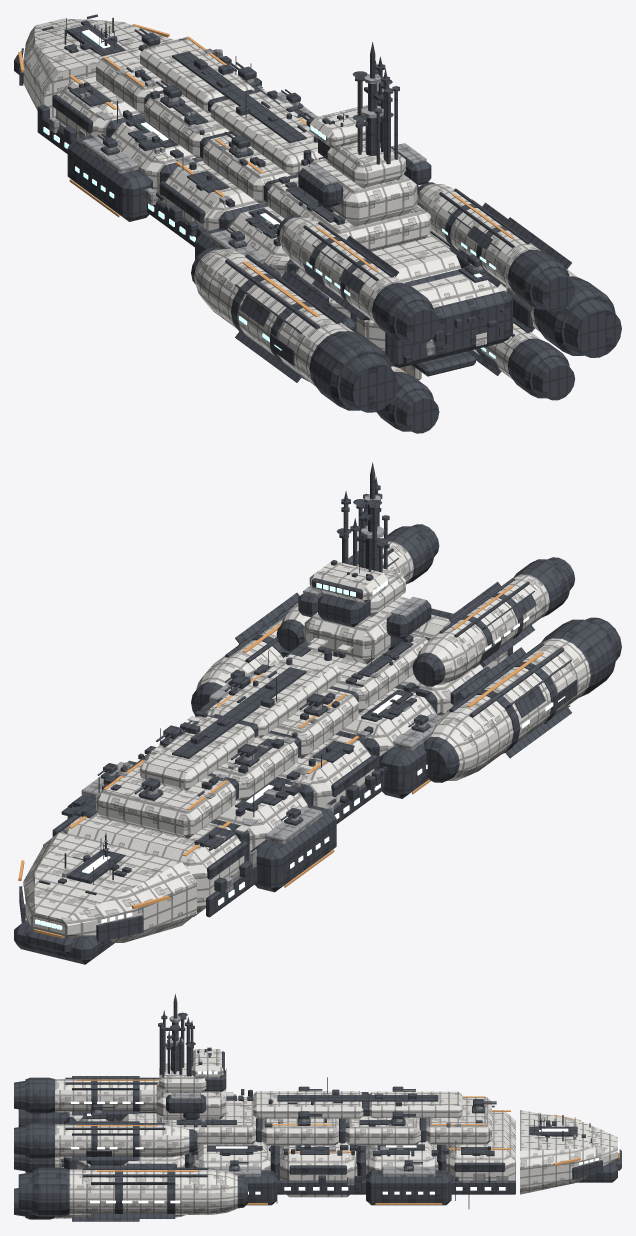
Rendered from aur-helix-destroyer.glb.
3 renders of one model, top to bottom at view 1: azimuth 30°, elevation 25°; view 2: azimuth 150°, elevation 25°; view 3: azimuth 270°, elevation 25°, orthographic. The views are drawn at different scales.
Visible parts, largest first — view 1: Hull_Dark, Hull_White, Hull_Grey, Livery, Windows; view 2: Hull_White, Hull_Dark, Hull_Grey, Livery, Windows; view 3: Hull_White, Hull_Dark, Hull_Grey, Windows, Livery.
Boxes of the visible parts, x1,y1,x2,y2 form: Hull_Dark: (14,14,621,433); Hull_White: (23,18,577,412); Hull_Grey: (49,23,482,355); Livery: (18,24,513,373); Windows: (22,29,495,358); Hull_White: (23,541,590,942); Hull_Dark: (14,462,621,964); Hull_Grey: (43,495,441,892); Livery: (18,565,543,938); Windows: (22,565,565,929); Hull_White: (55,1049,617,1218); Hull_Dark: (14,993,621,1221); Hull_Grey: (92,1016,576,1185); Windows: (71,1054,619,1203); Livery: (76,1079,619,1204).
Bounding box in the file's own units: 168 × 173 × 453.
Materials: 6 (3 with a texture image).
